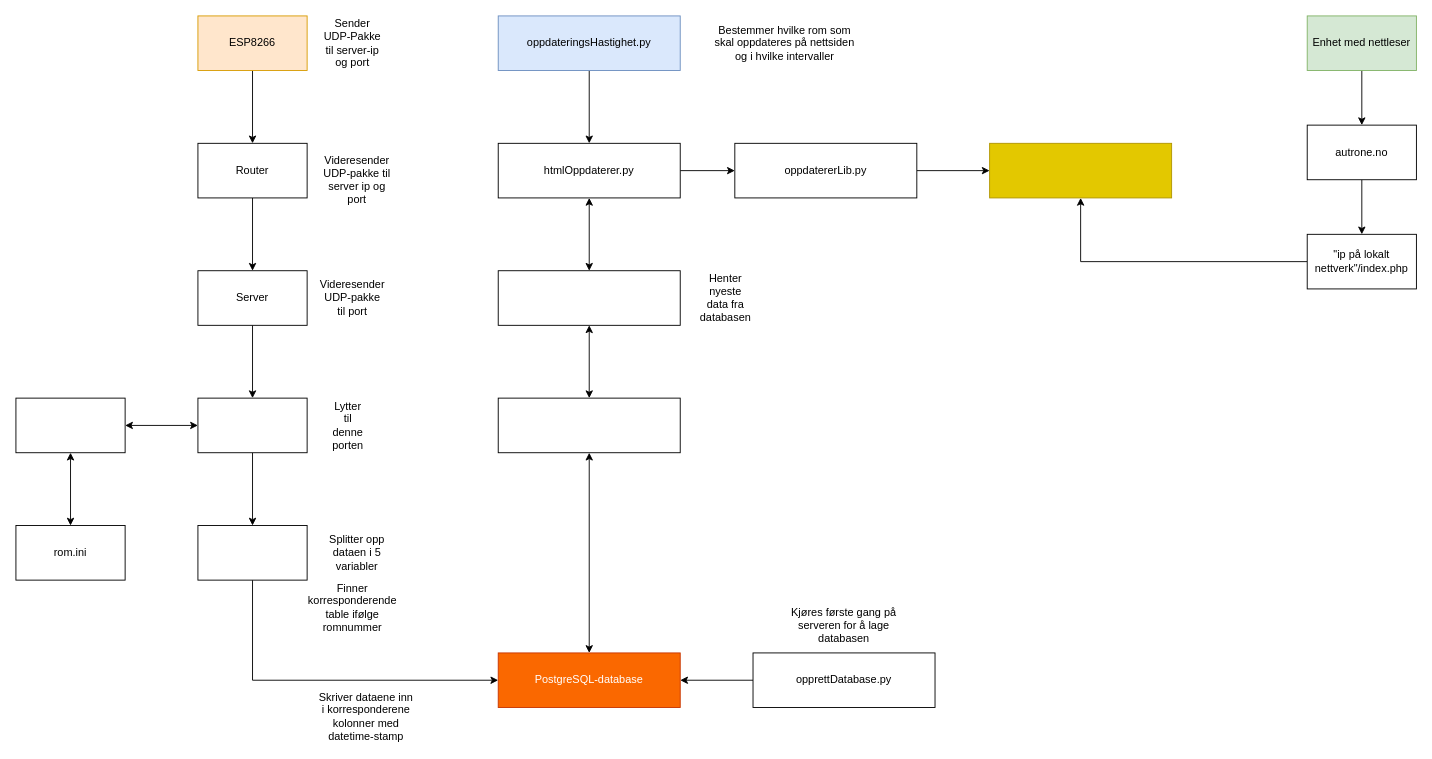
Some shapes in this 1432 by 759 pixel diagram are drawn without their labels. Here are the shapes that lost their labels. From the top down, the centre of each, then its label:
At pixel 1080 170: "grupperomOversikt.html".
At pixel 588 297: "postgresRead.py".
At pixel 70 425: "config.py".
At pixel 252 425: "postgresInsert.py".
At pixel 588 425: "read()".
At pixel 252 552: "insert()".
